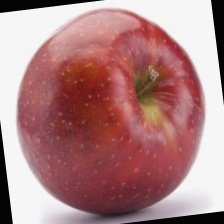apple: (6, 14, 199, 171)
